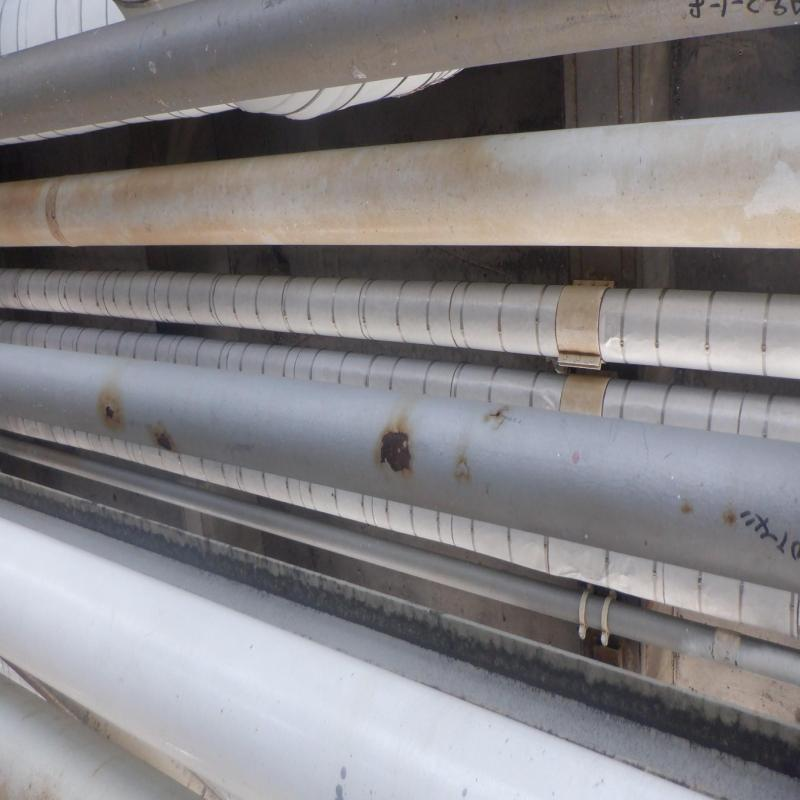corrosion: (382, 438, 409, 477), (155, 430, 178, 449), (100, 404, 119, 424)
